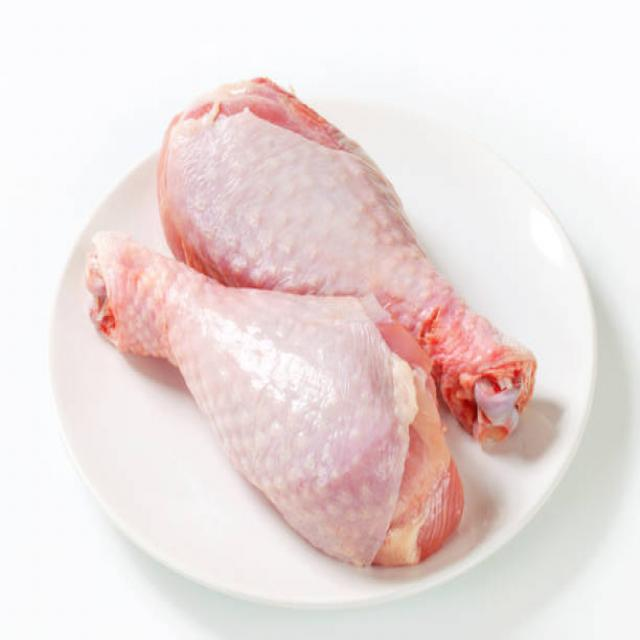Chicken: (83, 255, 437, 570), (164, 71, 518, 379)
